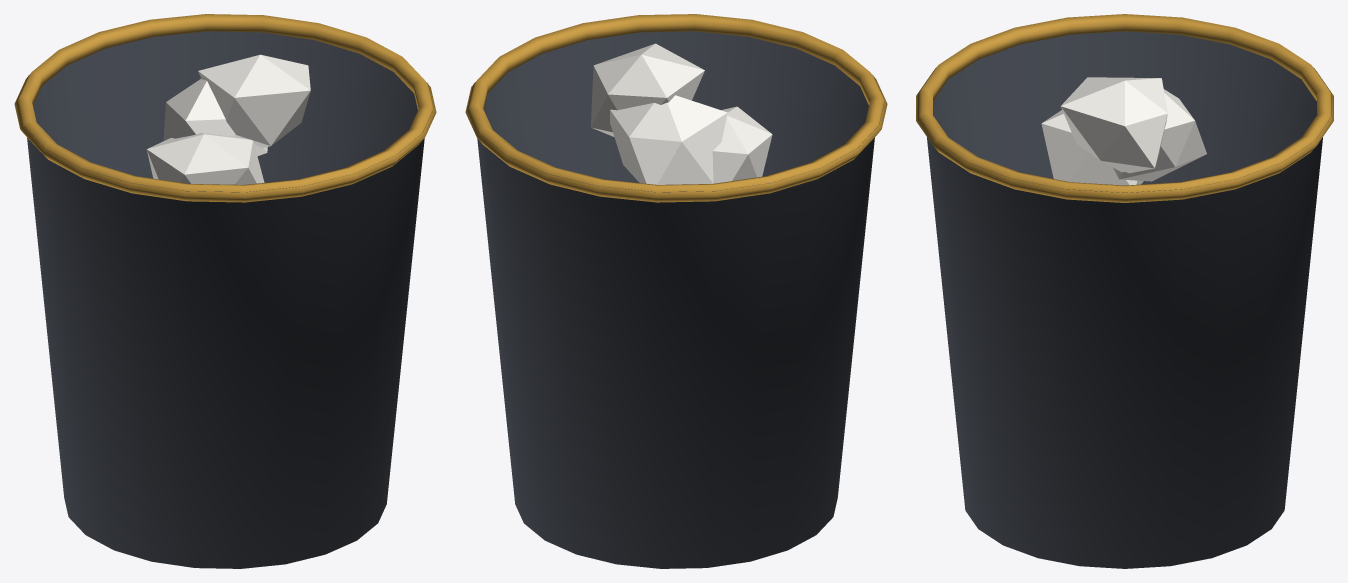
The model's file is RmBin.fbx.
3 views of the same model, side by side, from view 1: azimuth 30°, elevation 25°; view 2: azimuth 150°, elevation 25°; view 3: azimuth 270°, elevation 25° (orthographic).
Parts seen in each view (by area): view 1: RmBinBody; view 2: RmBinBody; view 3: RmBinBody.
Part boxes in pixels (box(x1,y1,x2,y2)): RmBinBody: box(14, 14, 436, 568); RmBinBody: box(465, 14, 887, 568); RmBinBody: box(916, 14, 1333, 568).
Size of the model in its own units: 0.314 by 0.359 by 0.3108.
